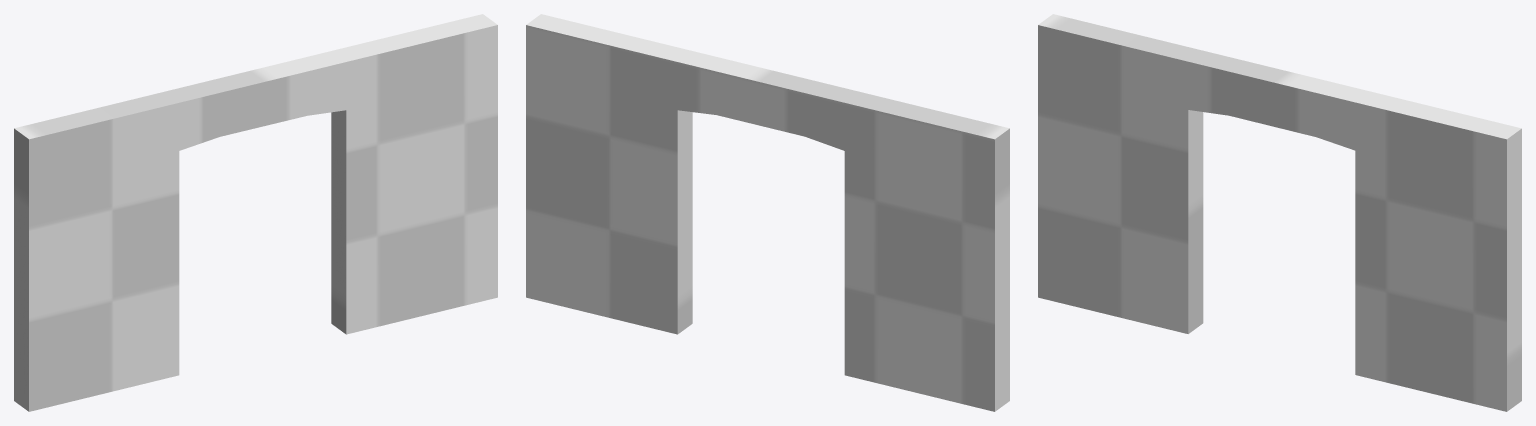
Rendered from ExitVaultFrame.fbx.
3 renders of one model, left to right at view 1: azimuth 30°, elevation 25°; view 2: azimuth 150°, elevation 25°; view 3: azimuth 330°, elevation 25°, orthographic.
Parts seen in each view (by area): view 1: ExitVaultFrame; view 2: ExitVaultFrame; view 3: ExitVaultFrame.
Part boxes in pixels (x1=…): ExitVaultFrame: x1=14, y1=14, x2=497, y2=411; ExitVaultFrame: x1=526, y1=14, x2=1009, y2=411; ExitVaultFrame: x1=1038, y1=14, x2=1521, y2=411.
Size of the model in its own units: 540 by 30 by 300.
